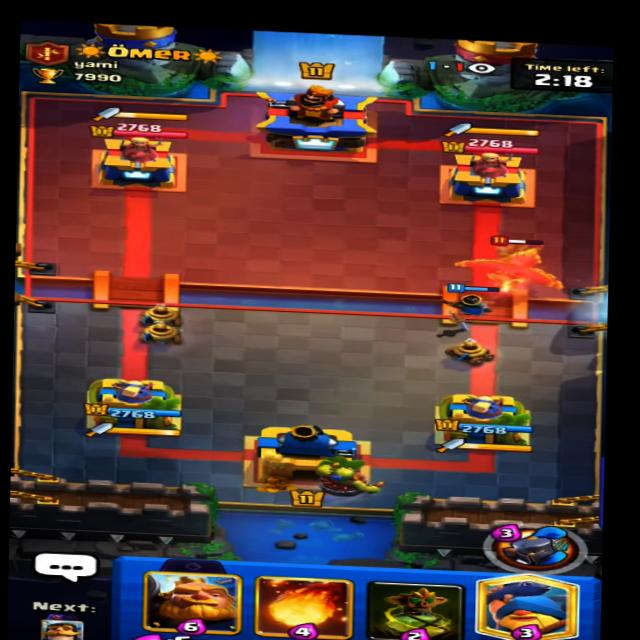Pheonix: (455, 235, 580, 293)
